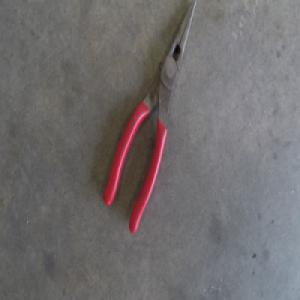Pliers: (105, 7, 195, 234)
